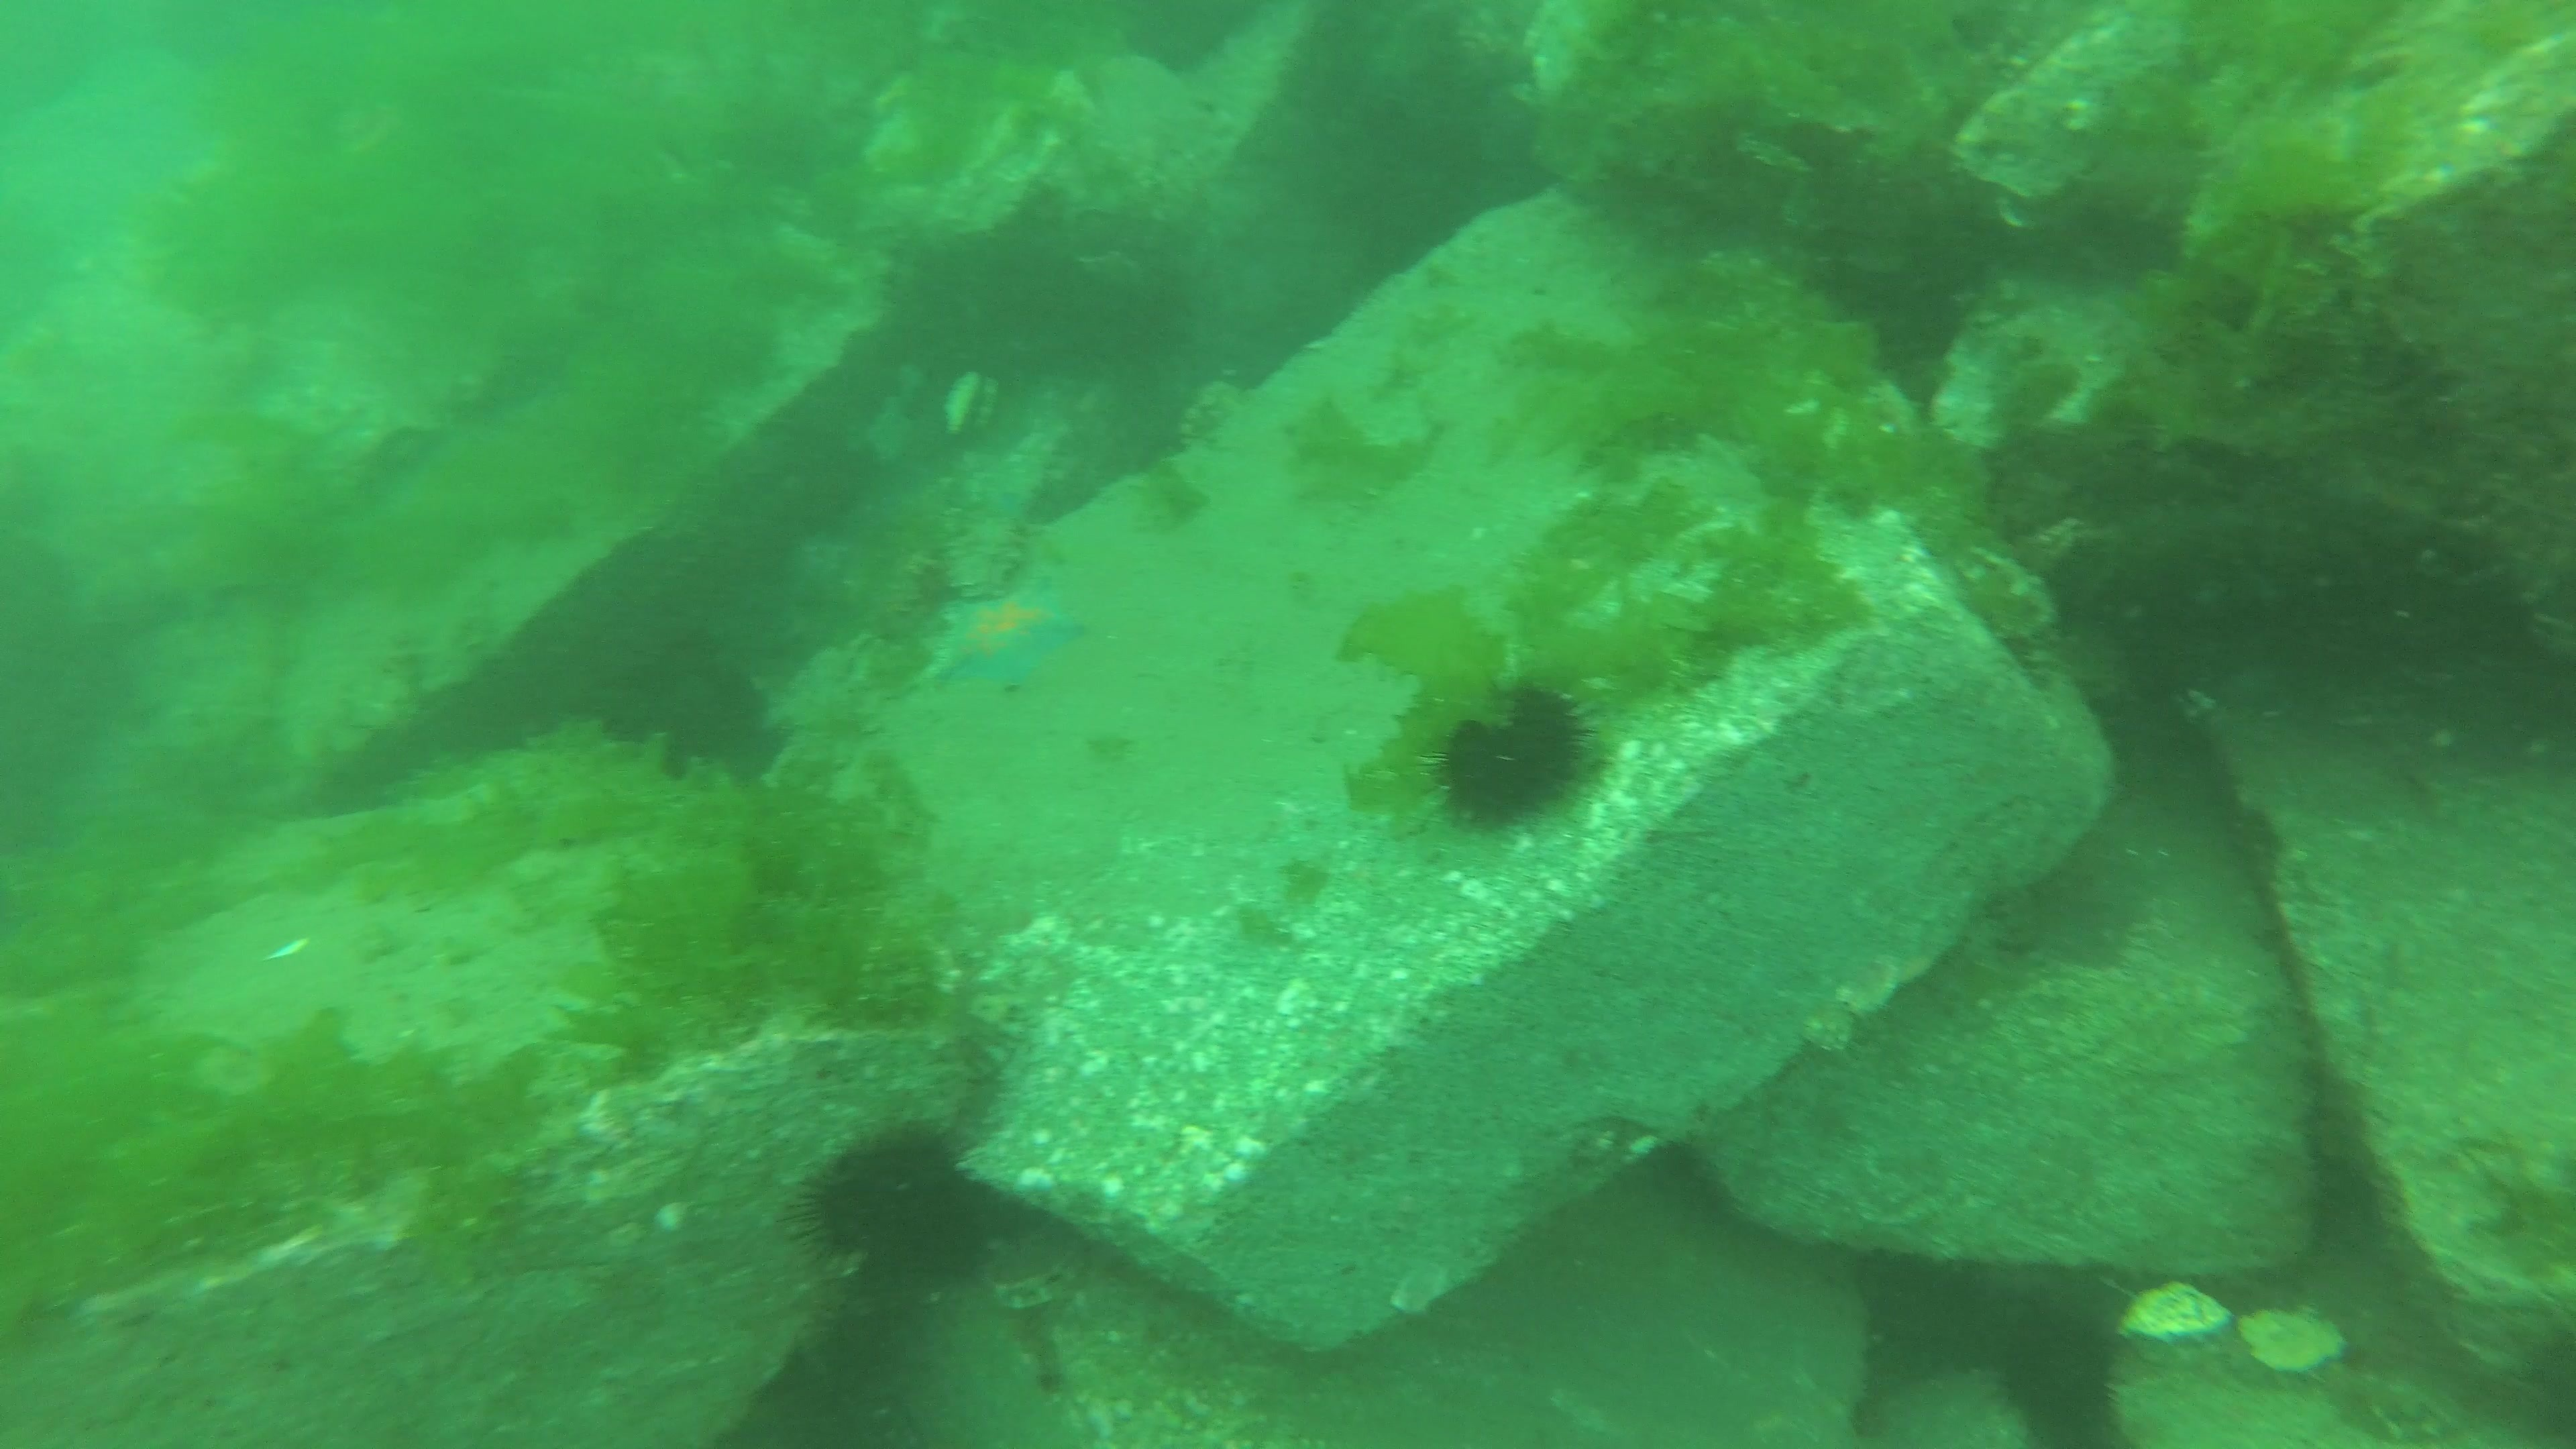echinus: (805, 1123, 993, 1297), (1438, 683, 1587, 828), (2001, 1304, 2121, 1449), (2516, 1327, 2576, 1449)
starfish: (916, 573, 1079, 695)
